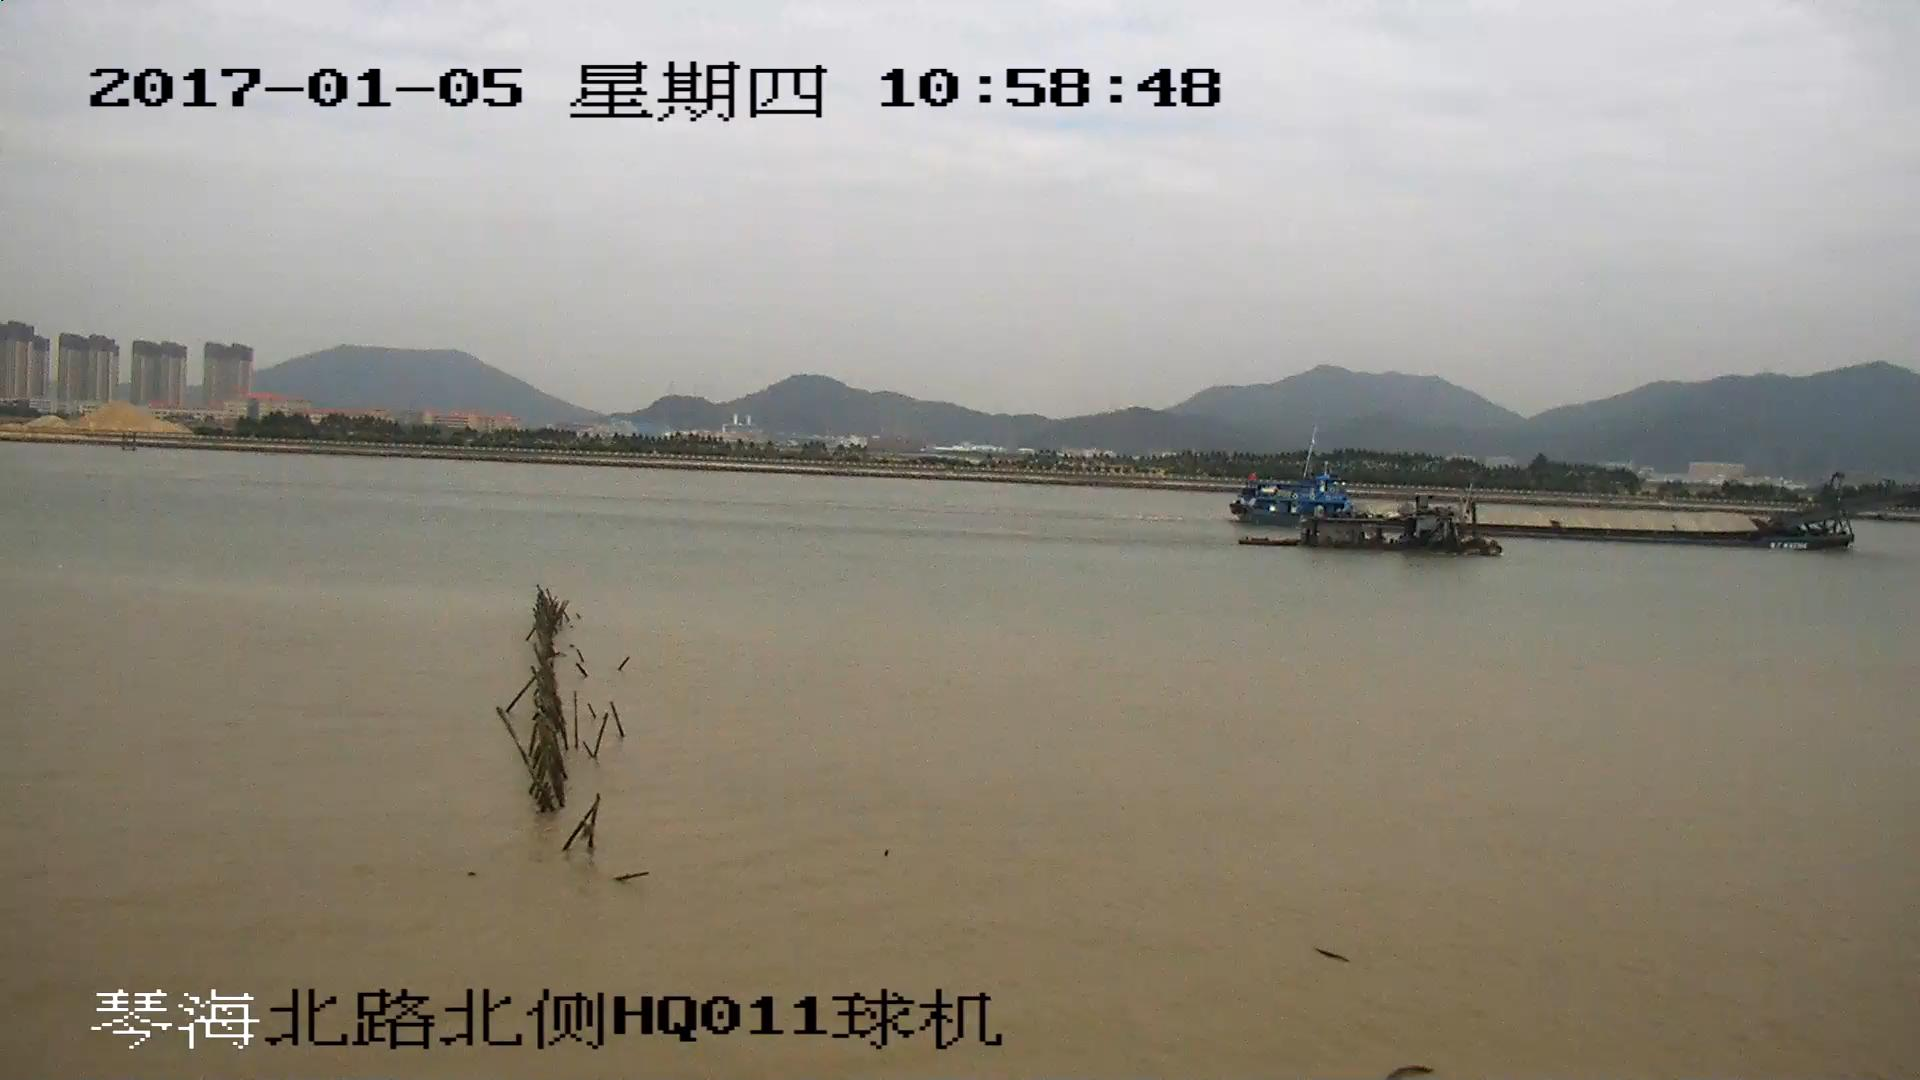ore carrier: (1240, 474, 1896, 552)
